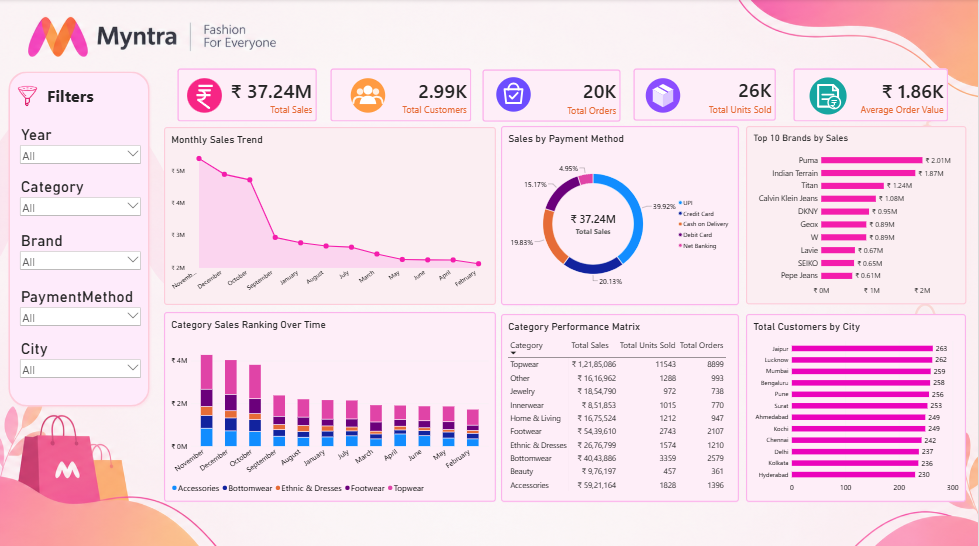

Layout of this report page (visuals, bound fields, positions):
{"tool":"powerbi","page":{"name":"Page 1","canvas":[2560,1440],"ordinal":0},"visuals":[{"type":"cardVisual","fields":{"Data":["orders.Total Sales"]},"box":[463.4,180.7,366.7,140],"z":0},{"type":"cardVisual","fields":{"Data":["orders.Total Customers"]},"box":[864,180.7,370,140],"z":1},{"type":"cardVisual","fields":{"Data":["orders.Total Orders"]},"box":[1262,183.3,363.9,138.8],"z":2},{"type":"cardVisual","fields":{"Data":["orders.Average Order Value"]},"box":[2076.2,180.7,406.7,140],"z":3},{"type":"cardVisual","fields":{"Data":["orders.Total Units Sold"]},"box":[1657.3,180.7,374.4,138.8],"z":4},{"type":"lineChart","title":"Monthly Sales Trend","fields":{"Category":["Dim_Date.Month"],"Y":["orders.Total Sales"]},"box":[429.4,335.1,869.2,466],"z":5},{"type":"pivotTable","title":"Category Performance Matrix","fields":{"Rows":["myntra_catalog.Category"],"Values":["orders.Total Sales","orders.Total Units Sold","orders.Total Orders"]},"box":[1311.7,824.7,623.1,492.2],"z":6},{"type":"clusteredBarChart","title":"Top 10 Brands by Sales","fields":{"Category":["myntra_catalog.Brand"],"Y":["orders.Total Sales"]},"box":[1953.3,333.3,576.7,466.7],"z":7},{"type":"clusteredBarChart","fields":{"Category":["customers.City"],"Y":["orders.Total Customers"]},"box":[1953.2,824.7,576,492.2],"z":9},{"type":"donutChart","title":"Sales by Payment Method","fields":{"Category":["orders.PaymentMethod"],"Y":["orders.Total Sales"]},"box":[1311.7,332.5,623.1,468.7],"z":10},{"type":"columnChart","title":"Category Sales Ranking Over Time","fields":{"Category":["Dim_Date.Month"],"Series":["myntra_catalog.Category"],"Y":["orders.Total Sales"]},"box":[429.4,819.5,869.2,497.5],"z":11},{"type":"shape","box":[13.1,180.7,387.5,895.4],"z":12},{"type":"textbox","box":[123.1,222.5,209.5,78.5],"z":13},{"type":"slicer","fields":{"Values":["Dim_Date.Year"]},"box":[47.1,329.9,327.3,112.6],"z":14},{"type":"slicer","fields":{"Values":["myntra_catalog.Category"]},"box":[47.1,466,327.3,128.3],"z":15},{"type":"slicer","fields":{"Values":["myntra_catalog.Brand"]},"box":[47.1,607.4,327.3,112.6],"z":16},{"type":"slicer","fields":{"Values":["orders.PaymentMethod"]},"box":[47.1,754,327.3,136.1],"z":17},{"type":"slicer","fields":{"Values":["customers.City"]},"box":[47.1,890.2,327.3,125.7],"z":18},{"type":"image","box":[463.4,199,144,107.3],"z":19},{"type":"image","box":[1262,196.4,164.9,107.3],"z":20},{"type":"image","box":[1657.3,199,157.1,107.3],"z":21},{"type":"image","box":[905.9,199,115.2,107.3],"z":22},{"type":"image","box":[2094.5,196.4,146.6,115.2],"z":23},{"type":"image","box":[0,206.8,144,94.3],"z":24}]}

Visuals, with their boxes in screenshot pixels (x1, y1, x2, y2), scaled from the page's 2560x1440 canvas onto the 979x546 screenshot:
cardVisual - orders.Total Sales: <bbox>177, 69, 317, 122</bbox>
cardVisual - orders.Total Customers: <bbox>330, 69, 472, 122</bbox>
cardVisual - orders.Total Orders: <bbox>483, 70, 622, 122</bbox>
cardVisual - orders.Average Order Value: <bbox>794, 69, 950, 122</bbox>
cardVisual - orders.Total Units Sold: <bbox>634, 69, 777, 121</bbox>
"Monthly Sales Trend" lineChart: <bbox>164, 127, 497, 304</bbox>
"Category Performance Matrix" pivotTable: <bbox>502, 313, 740, 499</bbox>
"Top 10 Brands by Sales" clusteredBarChart: <bbox>747, 126, 968, 303</bbox>
clusteredBarChart - customers.City x orders.Total Customers: <bbox>747, 313, 967, 499</bbox>
"Sales by Payment Method" donutChart: <bbox>502, 126, 740, 304</bbox>
"Category Sales Ranking Over Time" columnChart: <bbox>164, 311, 497, 499</bbox>
shape: <bbox>5, 69, 153, 408</bbox>
textbox: <bbox>47, 84, 127, 114</bbox>
slicer - Dim_Date.Year: <bbox>18, 125, 143, 168</bbox>
slicer - myntra_catalog.Category: <bbox>18, 177, 143, 225</bbox>
slicer - myntra_catalog.Brand: <bbox>18, 230, 143, 273</bbox>
slicer - orders.PaymentMethod: <bbox>18, 286, 143, 337</bbox>
slicer - customers.City: <bbox>18, 338, 143, 385</bbox>
image: <bbox>177, 75, 232, 116</bbox>
image: <bbox>483, 74, 546, 115</bbox>
image: <bbox>634, 75, 694, 116</bbox>
image: <bbox>346, 75, 390, 116</bbox>
image: <bbox>801, 74, 857, 118</bbox>
image: <bbox>0, 78, 55, 114</bbox>
